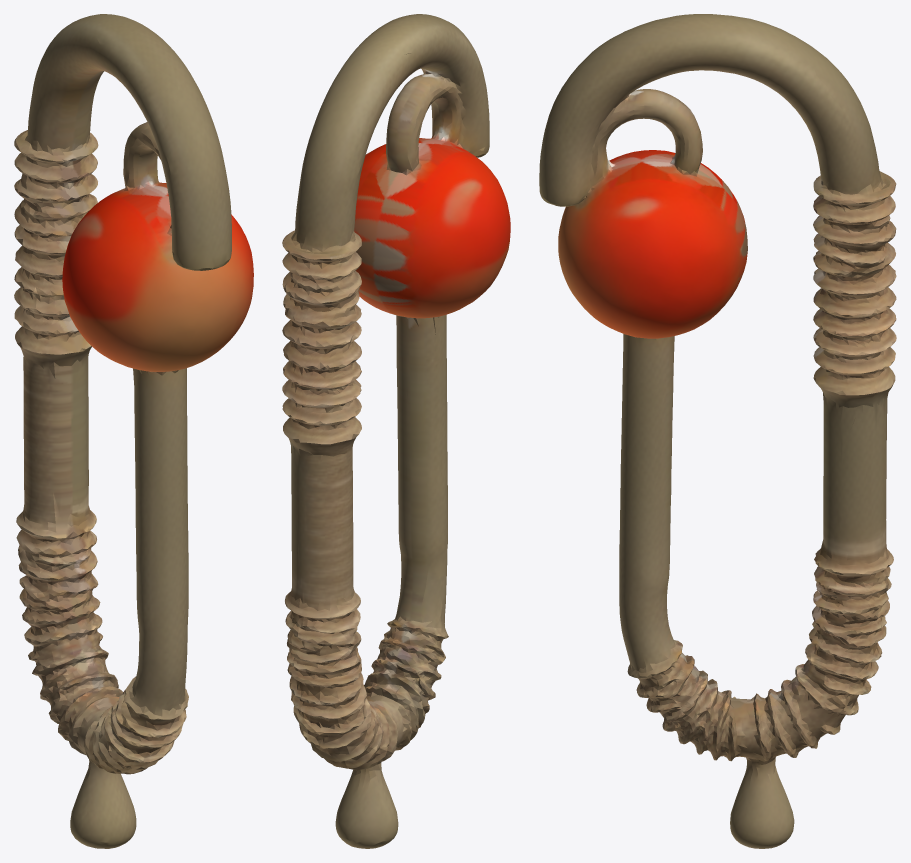
3 views of the same model, side by side, from view 1: azimuth 30°, elevation 25°; view 2: azimuth 150°, elevation 25°; view 3: azimuth 270°, elevation 25° (orthographic). The views are drawn at different scales.
Parts seen in each view (by area): view 1: GrappleHook; view 2: GrappleHook; view 3: GrappleHook.
Part boxes in pixels (x1,y1,x2,y2): GrappleHook: (14, 14, 253, 848); GrappleHook: (282, 14, 510, 848); GrappleHook: (539, 14, 896, 848).
Bounding box in the file's own units: 0.3967 × 1.9 × 0.7467.
1 material, 1 textured.
